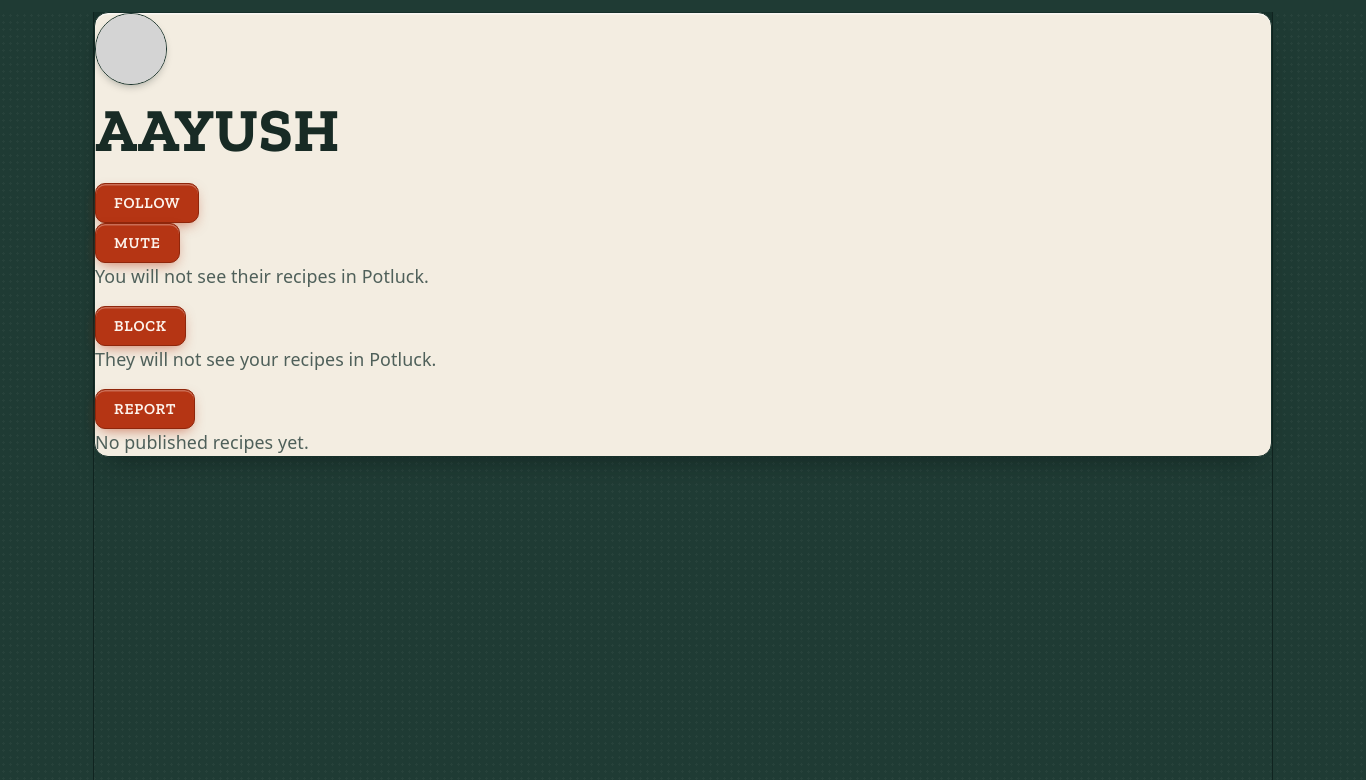
follows another cook and flips to Following
Click the button "Follow" at (147, 203), box [95,183,199,223]
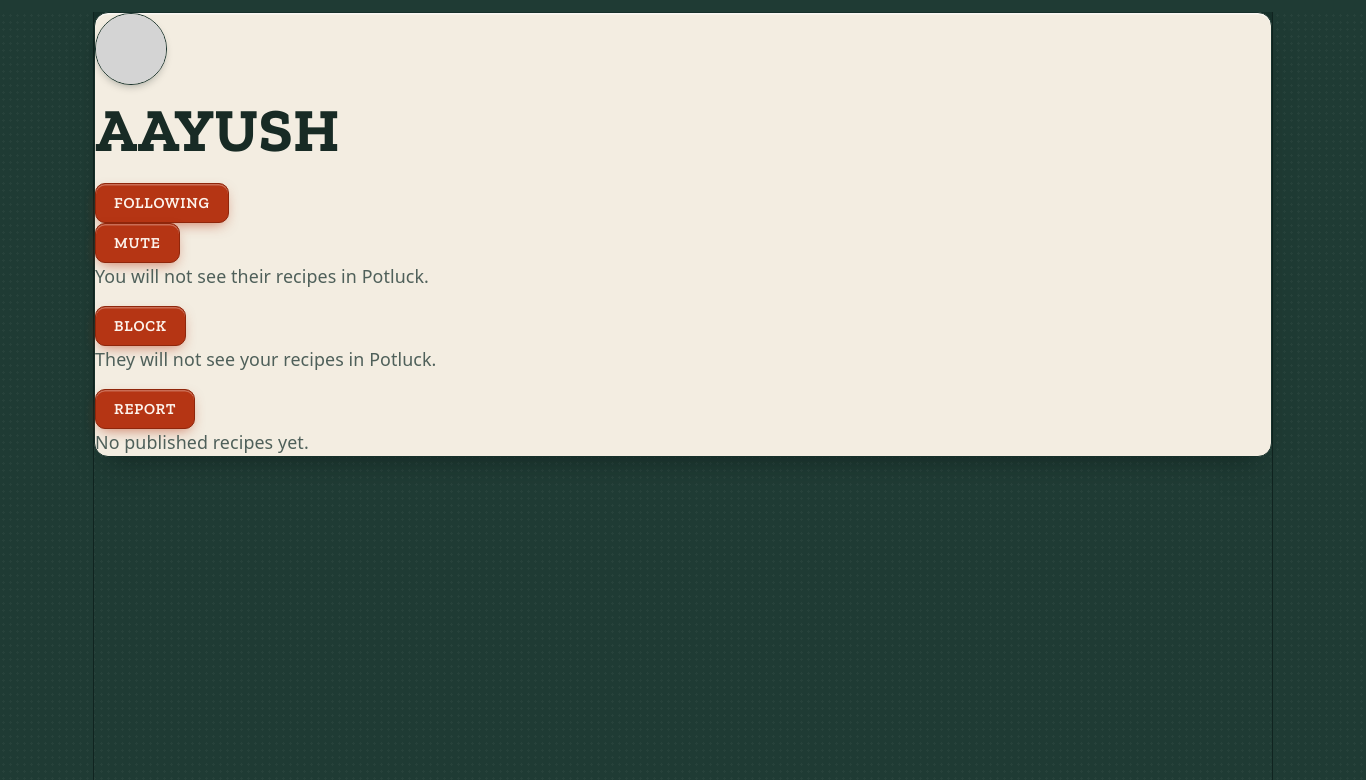
Expected: the button "Following" is shown, [95,183,229,223]
